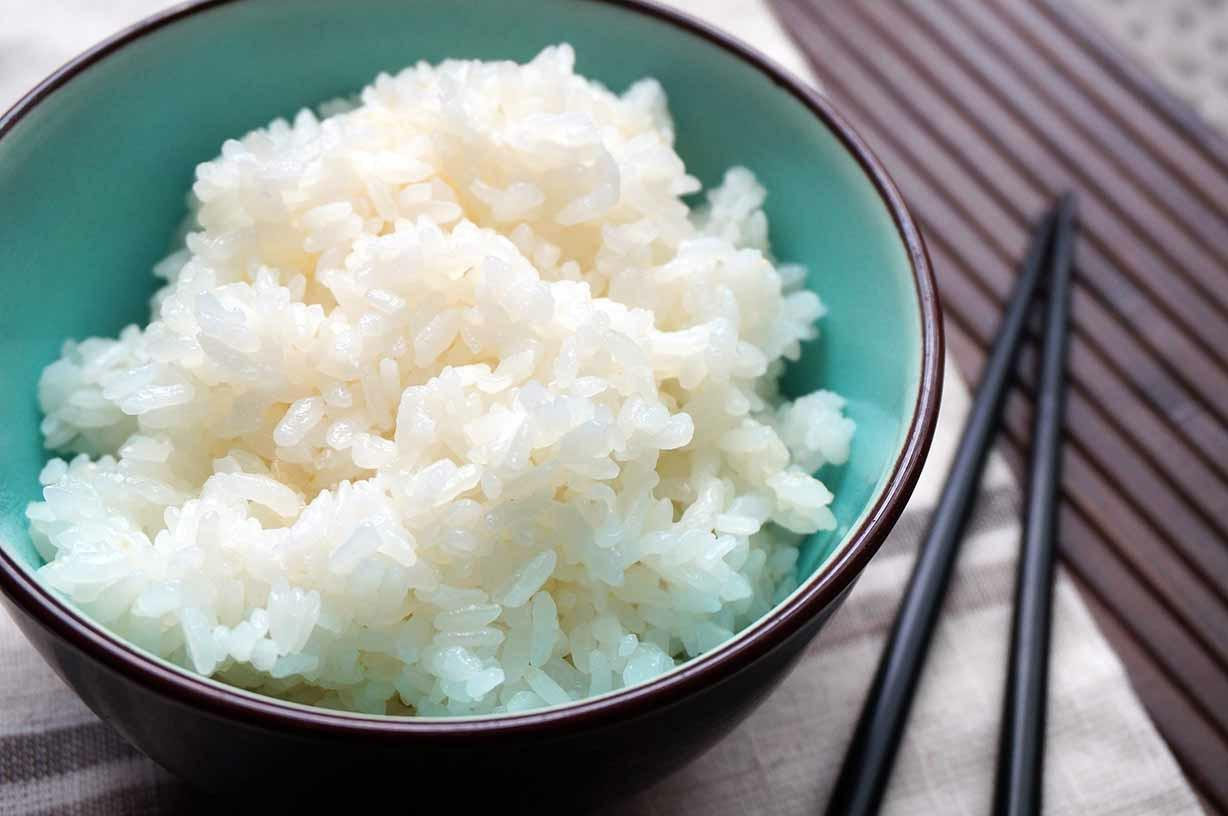WhiteRice: (28, 36, 857, 720)
